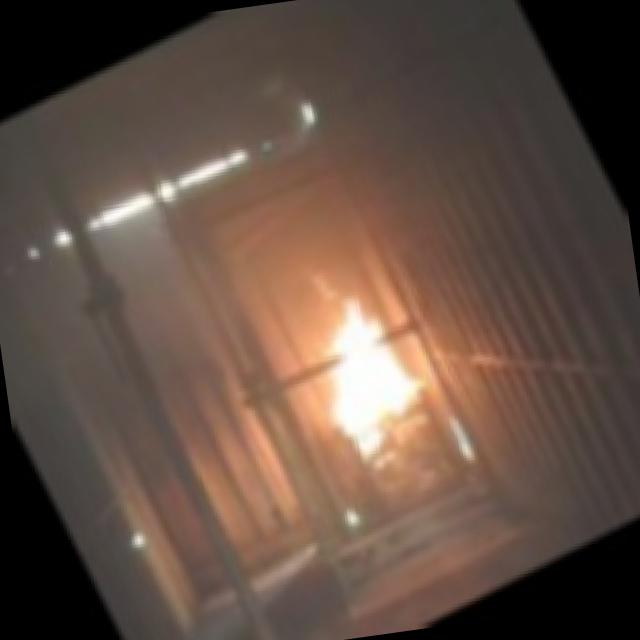fire: (269, 262, 456, 484)
